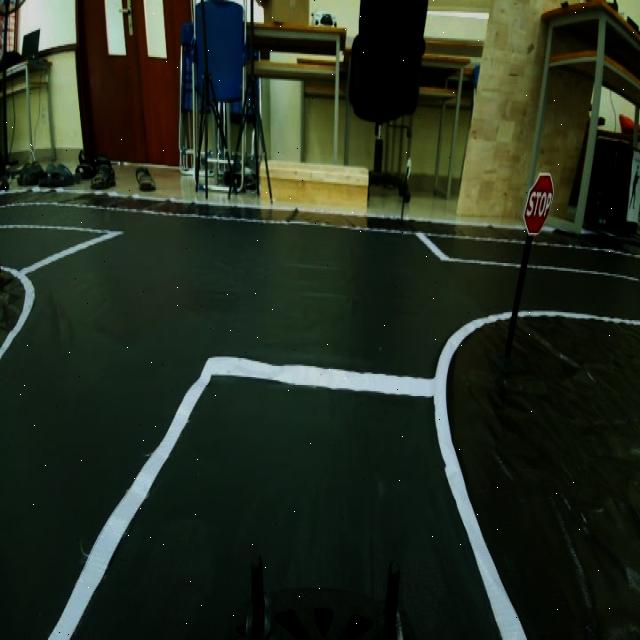stop: (514, 159, 560, 242)
